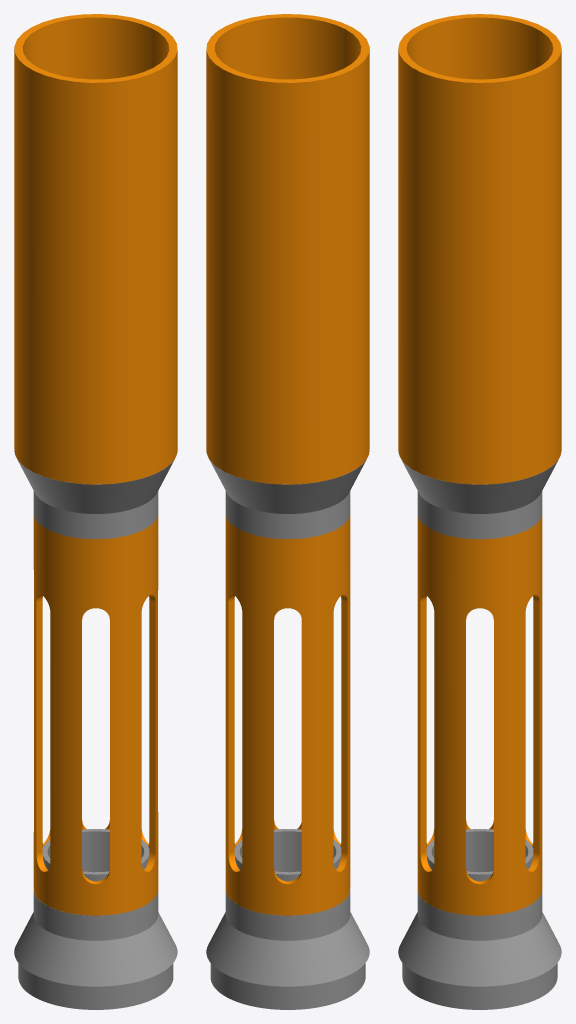
3 views of the same model, side by side, from view 1: azimuth 30°, elevation 25°; view 2: azimuth 150°, elevation 25°; view 3: azimuth 270°, elevation 25° (orthographic).
Visible parts, largest first — view 1: Body7, Body1, Body9, Body4; view 2: Body7, Body1, Body9, Body4; view 3: Body7, Body1, Body9, Body4.
Part boxes in pixels (left/top/right/bottom): Body7: left=14, top=14, right=177, bottom=484; Body1: left=33, top=514, right=158, bottom=915; Body9: left=14, top=829, right=177, bottom=1009; Body4: left=14, top=449, right=177, bottom=539; Body7: left=206, top=14, right=369, bottom=484; Body1: left=225, top=514, right=350, bottom=915; Body9: left=206, top=829, right=369, bottom=1009; Body4: left=206, top=449, right=369, bottom=539; Body7: left=398, top=14, right=561, bottom=484; Body1: left=417, top=514, right=542, bottom=915; Body9: left=398, top=829, right=561, bottom=1009; Body4: left=398, top=451, right=561, bottom=539.
Size of the model in its own units: 59.03 by 370 by 59.
